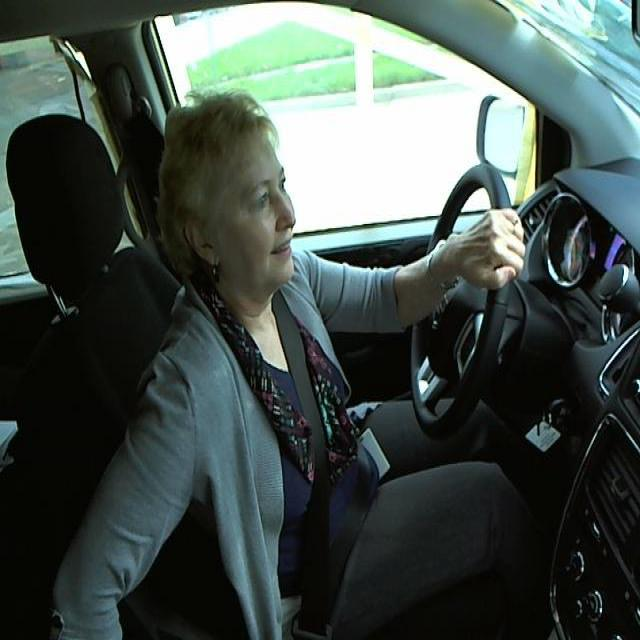seatbelt: (275, 326, 353, 610)
